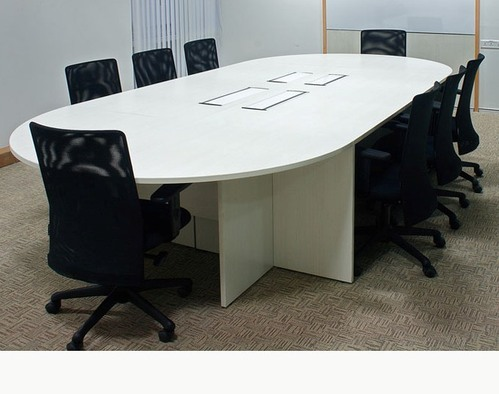conference_table: (10, 53, 453, 308)
